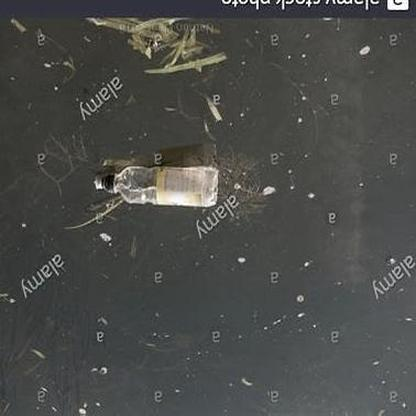plastic bottle: (100, 166, 219, 208)
